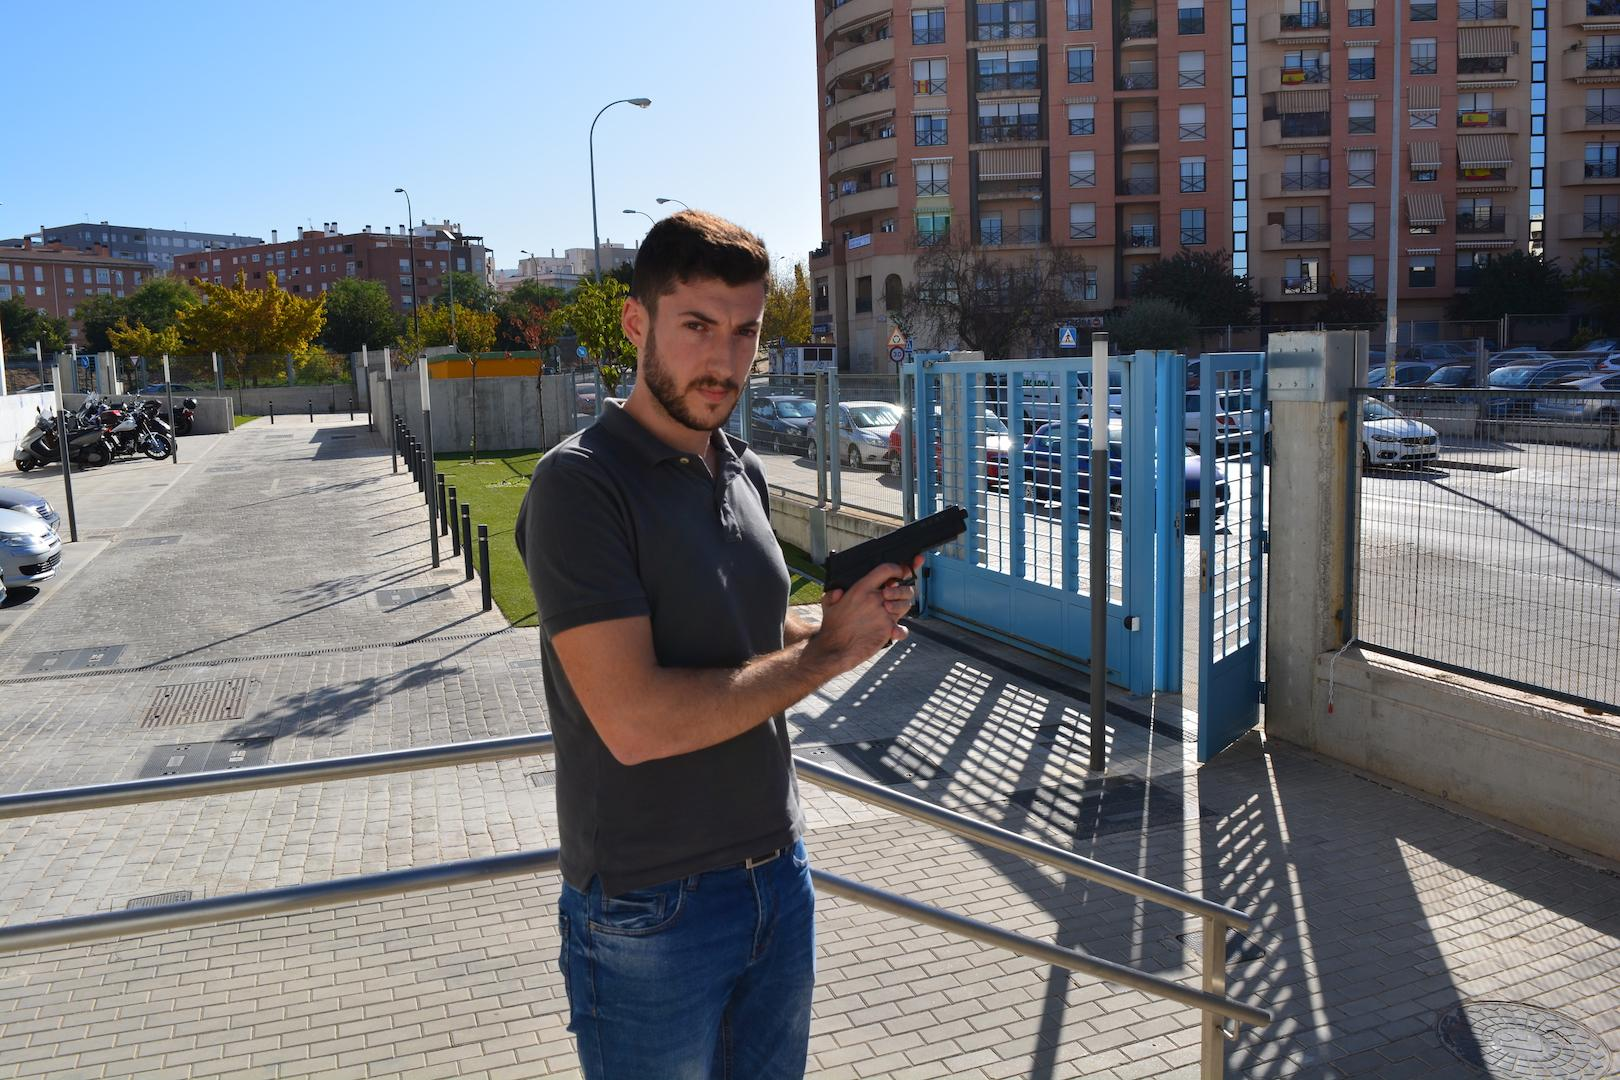criminal: (515, 209, 972, 1080)
weapon: (822, 501, 970, 648)
